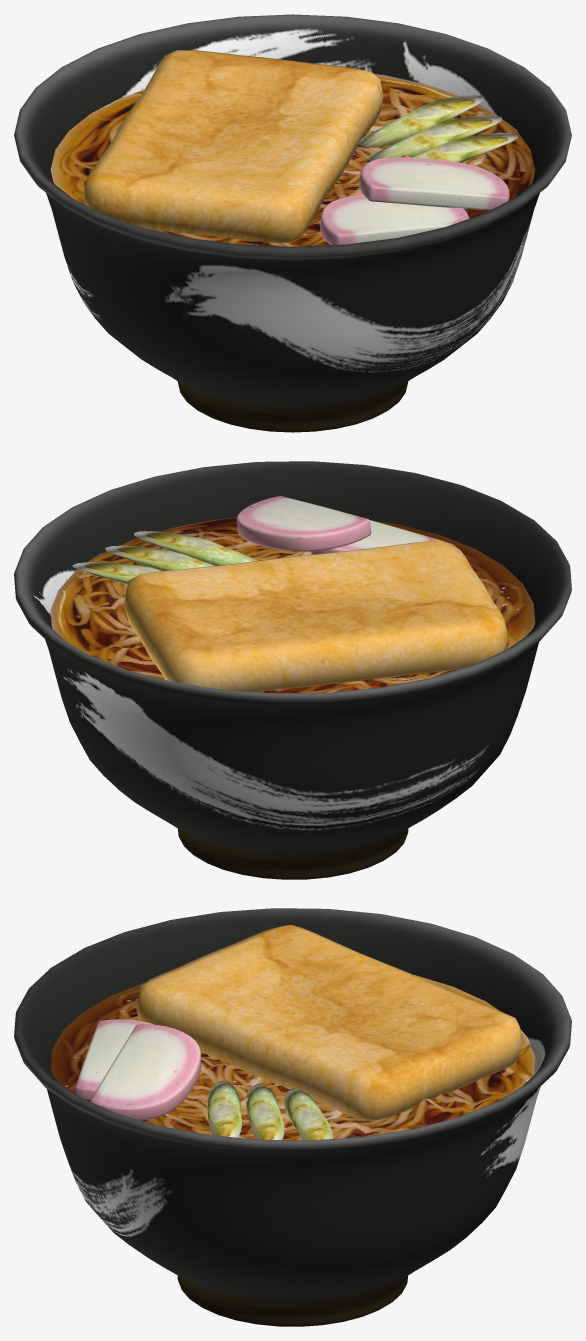
The model's file is kitsunesoba.glb.
3 views of the same model, one above another, from view 1: azimuth 30°, elevation 25°; view 2: azimuth 150°, elevation 25°; view 3: azimuth 270°, elevation 25° (orthographic).
Parts seen in each view (by area): view 1: KitsuneSoba; view 2: KitsuneSoba; view 3: KitsuneSoba.
Boxes of the visible parts, box(x1,y1,x2,y2) form: KitsuneSoba: box(14, 14, 571, 432); KitsuneSoba: box(14, 461, 571, 879); KitsuneSoba: box(14, 908, 571, 1326).
Bounding box in the file's own units: 0.177 × 0.0904 × 0.177.
2 materials, 2 textured.
